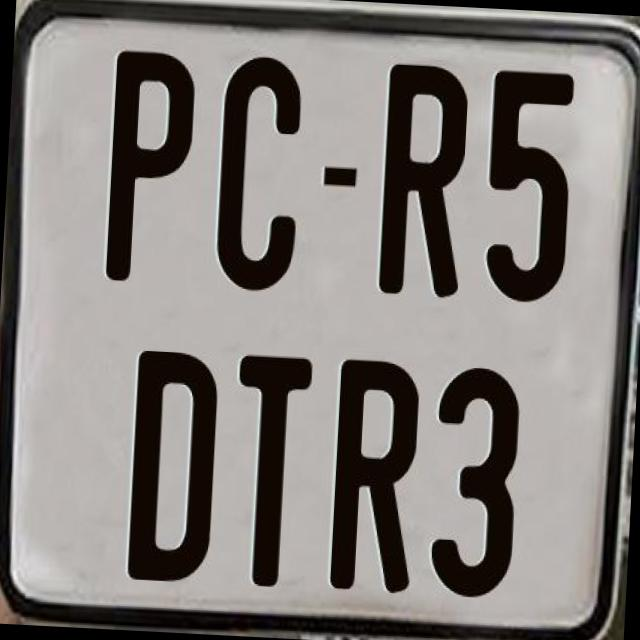3: (426, 365, 526, 598)
5: (480, 64, 576, 307)
C: (210, 54, 300, 299)
D: (126, 346, 222, 580)
P: (101, 49, 192, 288)
R: (330, 360, 422, 596), (376, 61, 468, 296)
T: (228, 350, 316, 592)
